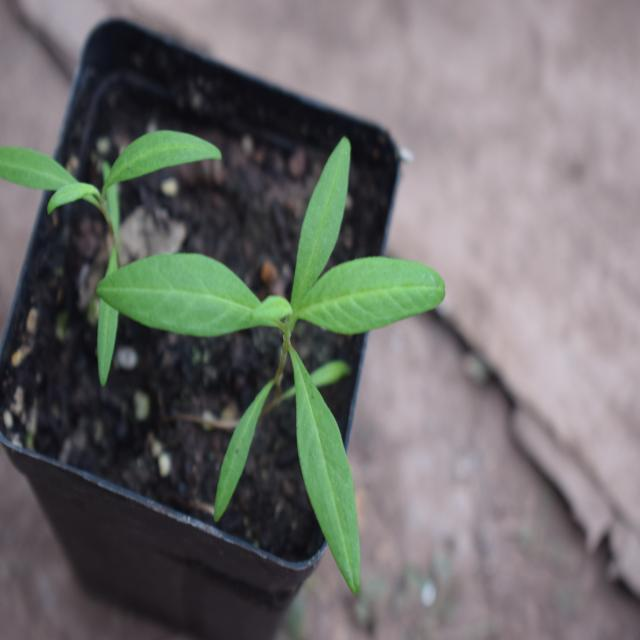white_smart_weed: (104, 192, 470, 585), (7, 104, 215, 290)
